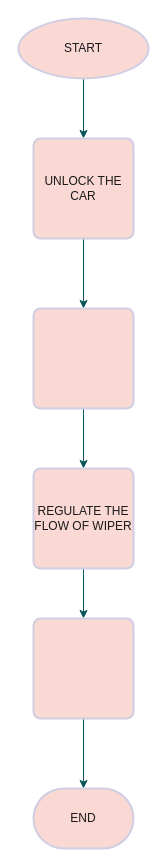
The diagram is 166 pixels wide and 866 high, and some of its shapes have lost their labels. Here are the shapes that lost their labels. From the top down, the centre of each, then its label:
At point (83, 358): "INITIATE THE WIPER".
At point (83, 668): "HALT THE WIPER".
